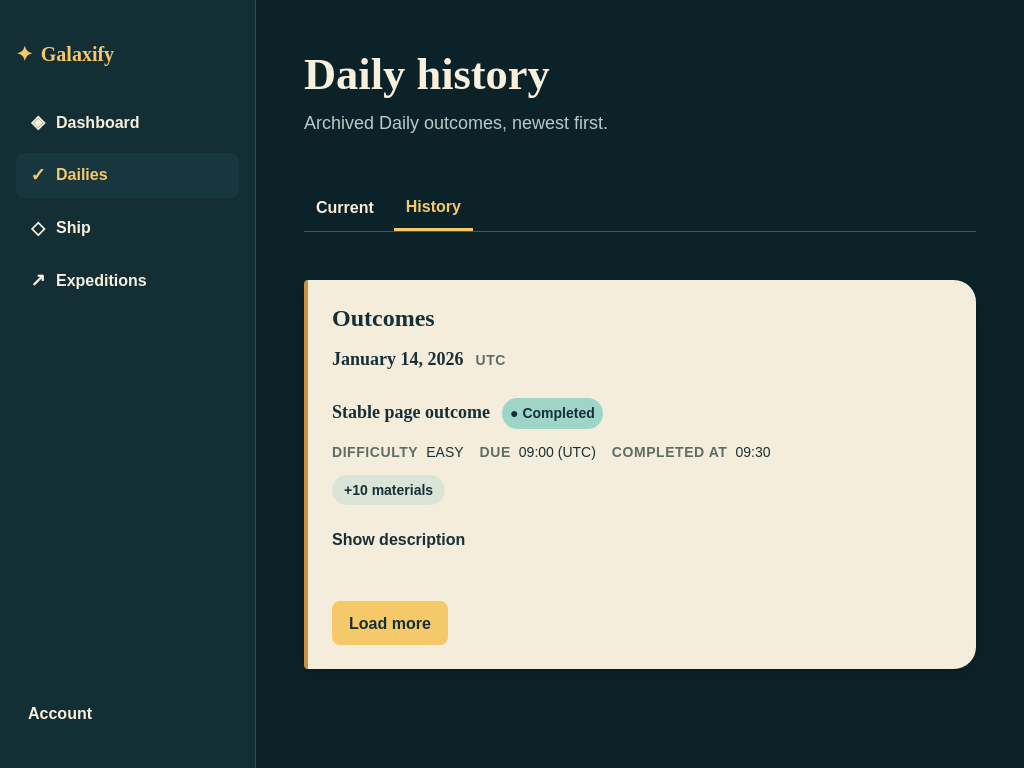
Test: /dailies/history › keeps loaded groups visible and makes continuation Retry local
Expected: the heading "Daily history" is shown, [304,49,550,99]
Expected: the heading "Stable page outcome" is shown, [332,402,490,424]
Click the button "Load more". click: x=390, y=623
box: [332,601,448,645]
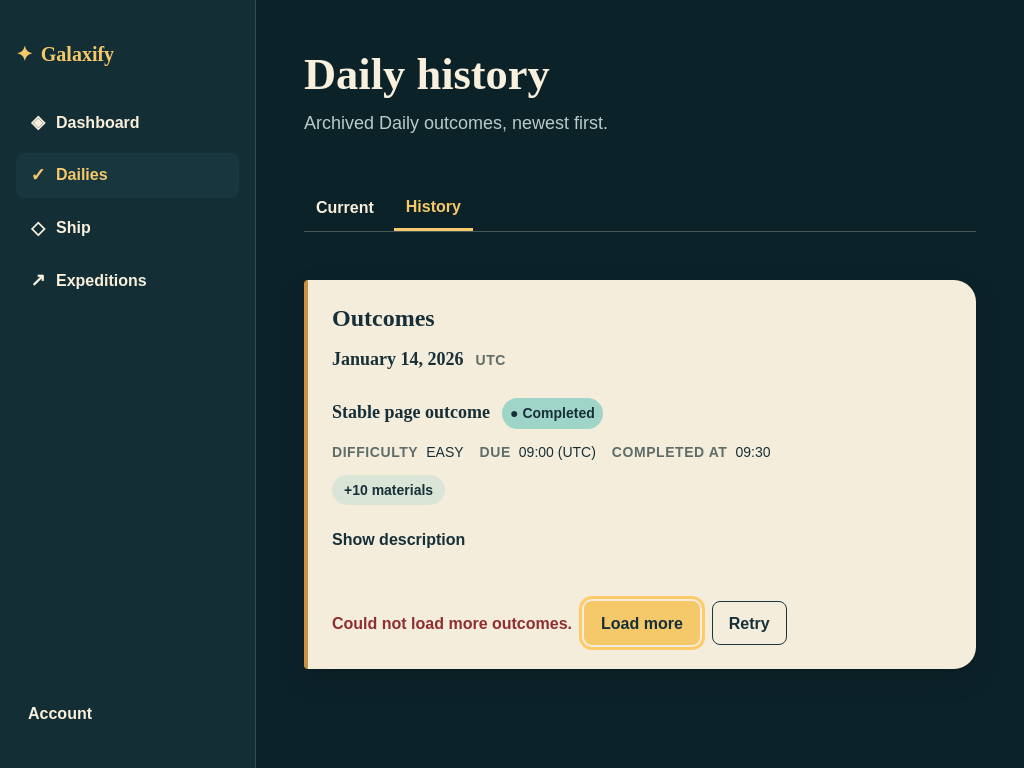
Expected: the heading "Stable page outcome" is shown, [332,402,490,424]
Now the text "Could not load more outcomes." is shown, box [332,610,572,636]
Click the button with aria-label "Retry loading more history". click: x=749, y=623
box: [712,601,787,645]
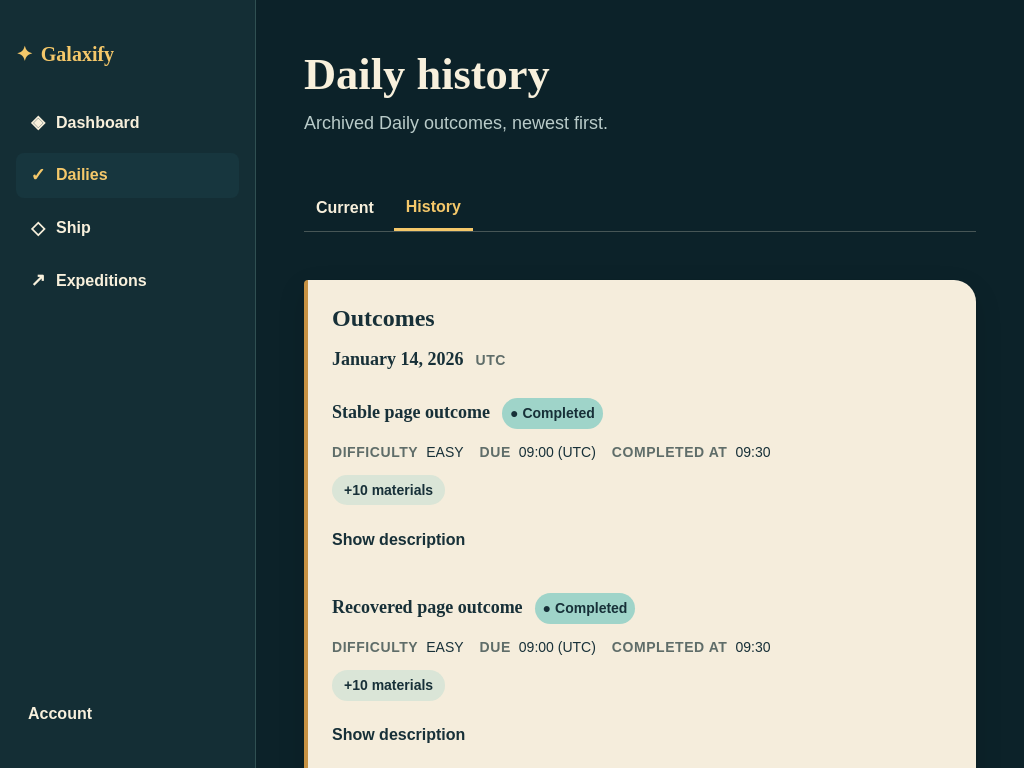
Now the heading "Recovered page outcome" is shown, box [332,597,523,619]
Now the text "Could not load more outcomes." is gone
